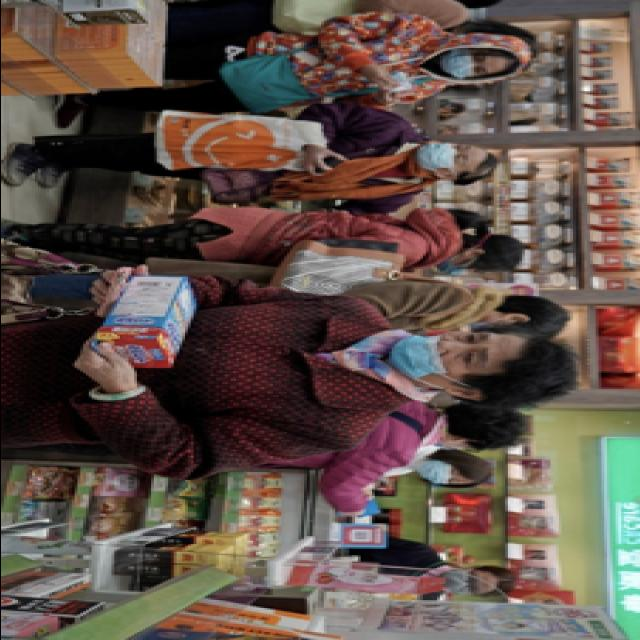mask_weared_incorrect: (388, 333, 502, 387)
with_mask: (416, 141, 476, 173), (438, 46, 498, 78), (442, 568, 488, 597), (437, 256, 492, 277), (422, 464, 468, 485)
